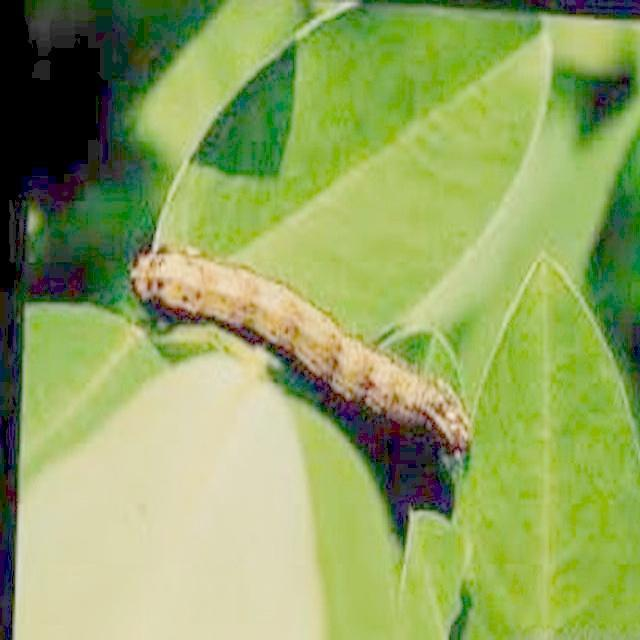gusano_cogollero: (122, 240, 476, 461)
